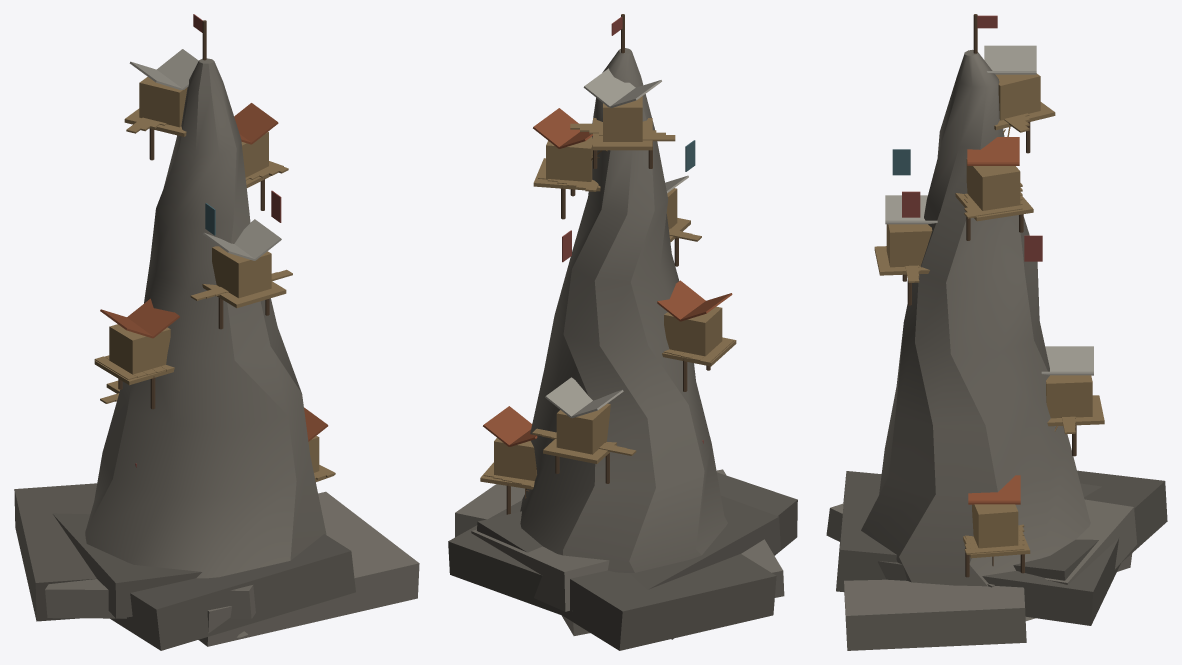
The model's file is V_SpireVillage.glb.
The picture shows the model from 3 angles, left to right: view 1: azimuth 30°, elevation 25°; view 2: azimuth 150°, elevation 25°; view 3: azimuth 270°, elevation 25°; orthographic projection.
Parts seen in each view (by area): view 1: V_SpireVillage_Structure, V_SpireVillage_Foundation, V_SpireVillage_Roof, V_SpireVillage_Fixtures, V_SpireVillage_Props; view 2: V_SpireVillage_Structure, V_SpireVillage_Foundation, V_SpireVillage_Roof, V_SpireVillage_Fixtures, V_SpireVillage_Props; view 3: V_SpireVillage_Structure, V_SpireVillage_Foundation, V_SpireVillage_Roof, V_SpireVillage_Fixtures, V_SpireVillage_Props.
Part boxes in pixels (x1,y1,x2,y2): V_SpireVillage_Structure: [85, 58, 326, 637]; V_SpireVillage_Foundation: [14, 483, 419, 650]; V_SpireVillage_Roof: [100, 49, 328, 441]; V_SpireVillage_Fixtures: [94, 108, 335, 481]; V_SpireVillage_Props: [135, 14, 281, 467]; V_SpireVillage_Structure: [494, 48, 727, 572]; V_SpireVillage_Foundation: [448, 469, 797, 650]; V_SpireVillage_Roof: [483, 68, 732, 446]; V_SpireVillage_Fixtures: [480, 118, 736, 514]; V_SpireVillage_Props: [525, 14, 703, 499]; V_SpireVillage_Structure: [861, 49, 1092, 620]; V_SpireVillage_Foundation: [826, 470, 1167, 650]; V_SpireVillage_Roof: [885, 45, 1093, 504]; V_SpireVillage_Fixtures: [874, 102, 1104, 577]; V_SpireVillage_Props: [892, 14, 1042, 566].
Bounding box in the file's own units: 17.83 × 31.23 × 16.94.
